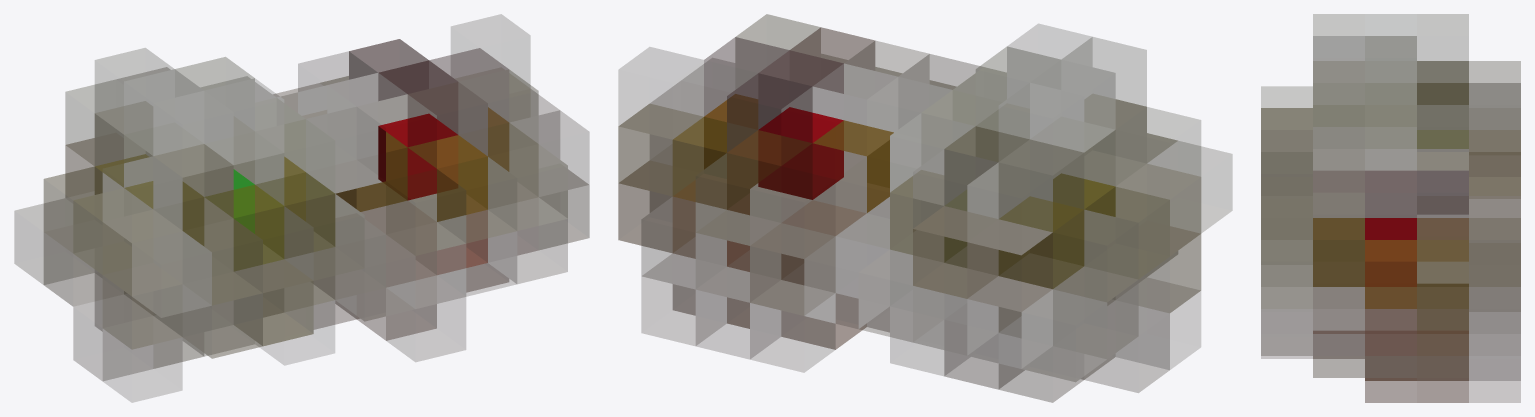
The model's file is iter_5.obj.
3 views of the same model, side by side, from view 1: azimuth 30°, elevation 25°; view 2: azimuth 150°, elevation 25°; view 3: azimuth 270°, elevation 25° (orthographic). The views are drawn at different scales.
Parts seen in each view (by area): view 1: iter_5; view 2: iter_5; view 3: iter_5.
Boxes of the visible parts, bbox=[...] form: iter_5: bbox=[14, 14, 589, 402]; iter_5: bbox=[618, 14, 1231, 402]; iter_5: bbox=[1261, 14, 1520, 402].
Size of the model in its own units: 0.9 by 0.5 by 0.5.
